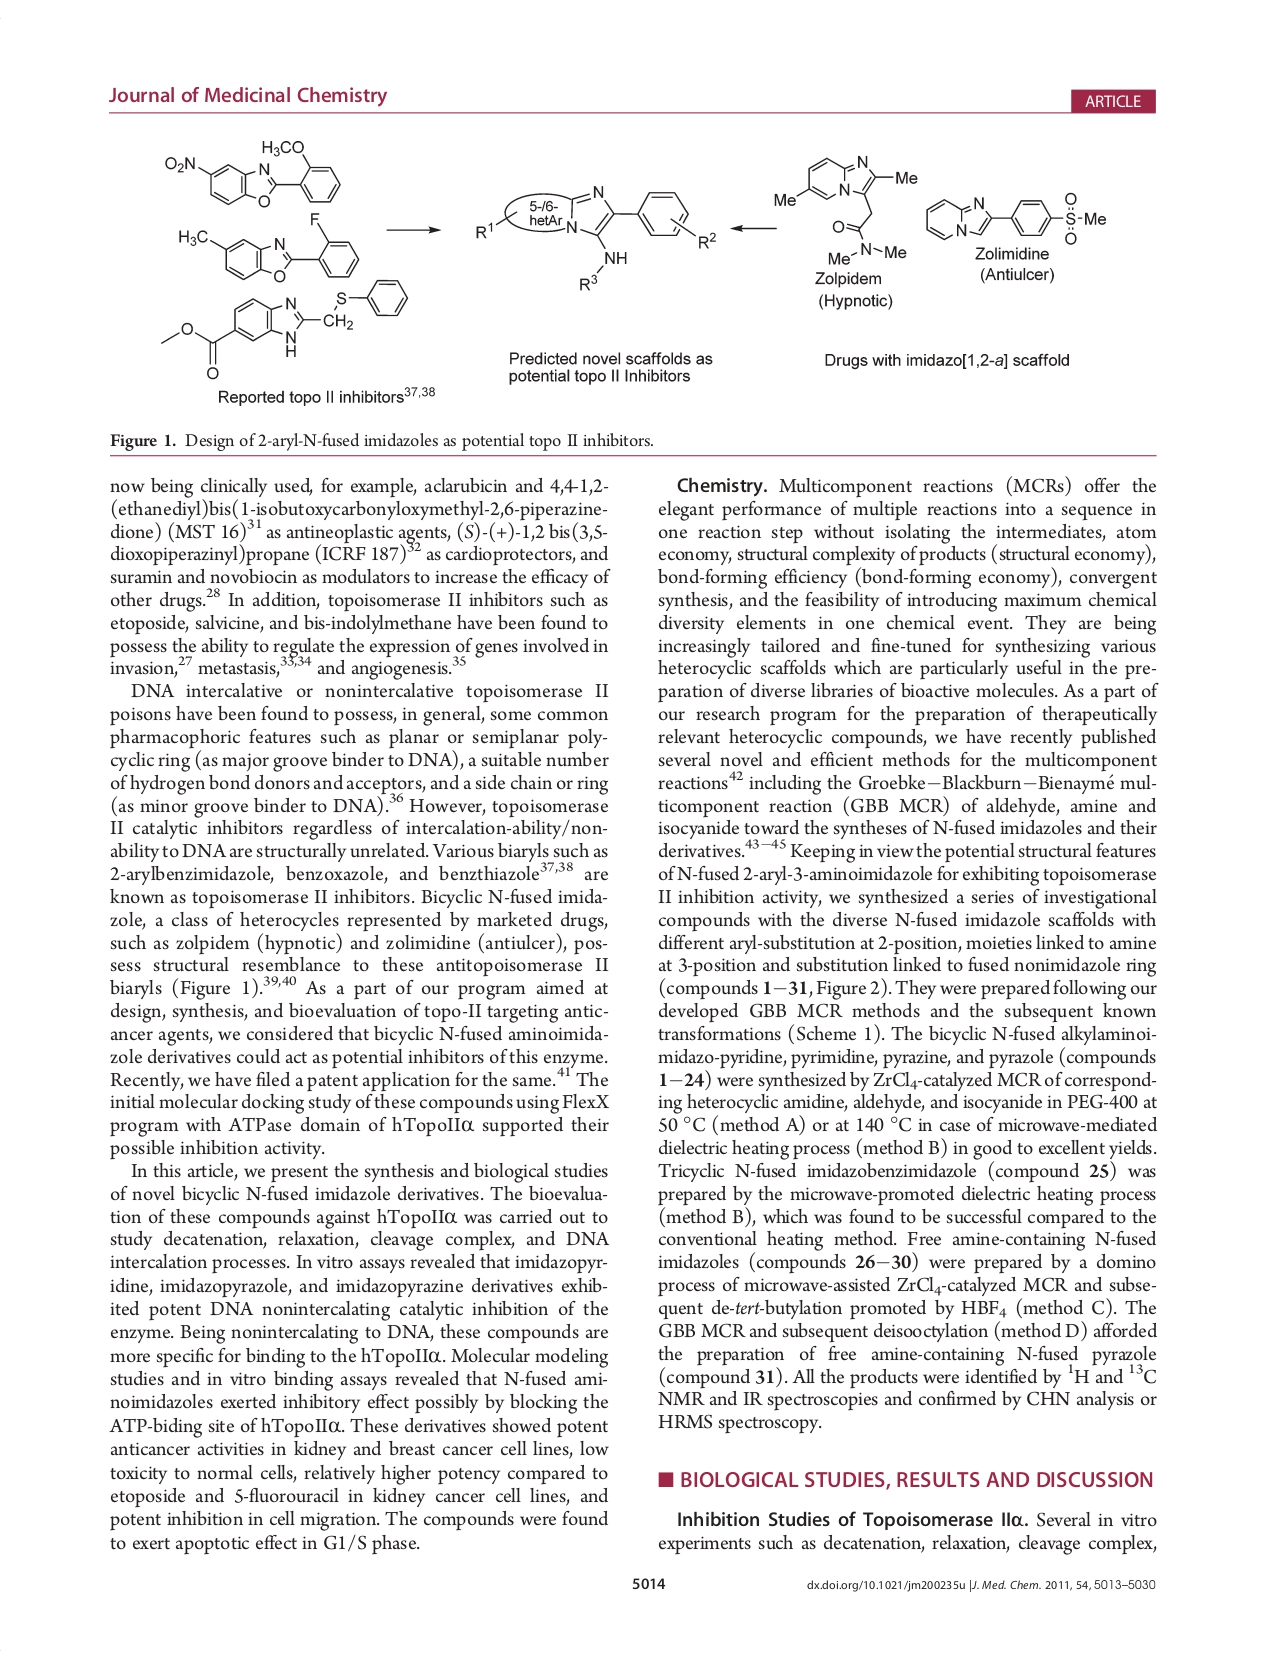exist_molecular: (469, 184, 718, 293), (160, 277, 410, 382), (773, 153, 920, 266), (176, 210, 362, 286), (164, 136, 342, 210), (922, 190, 1106, 247)
